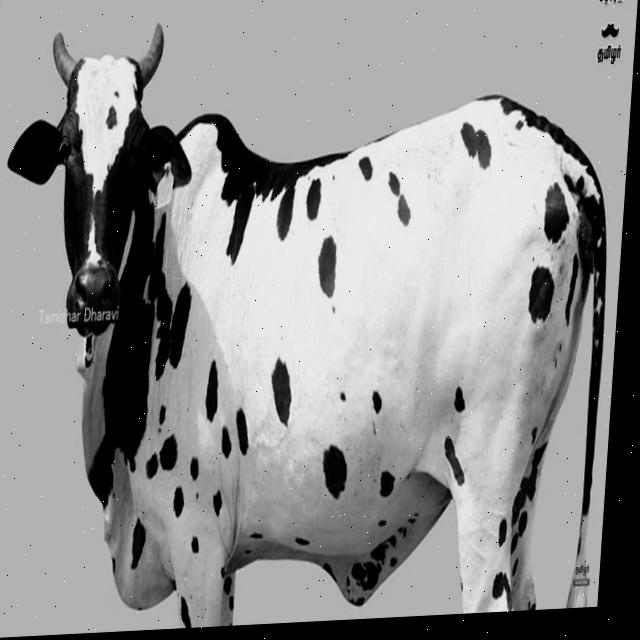Cow: (0, 0, 629, 637)
